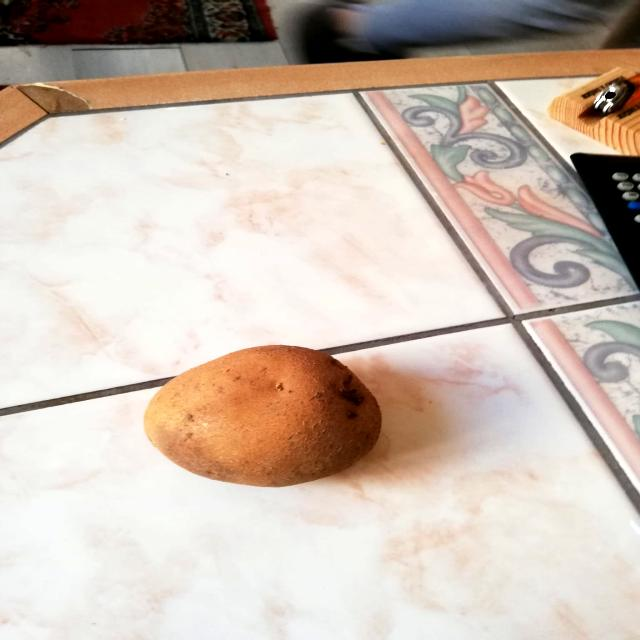potato: (133, 338, 392, 492)
